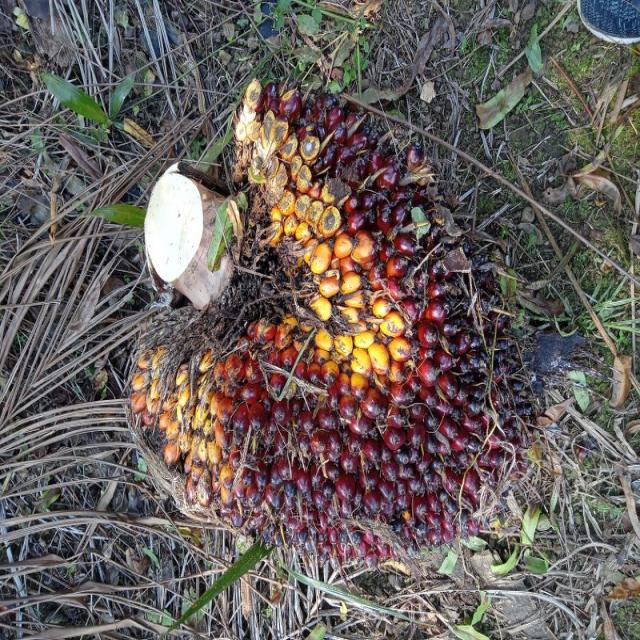fraksi 1: (142, 109, 494, 559)
